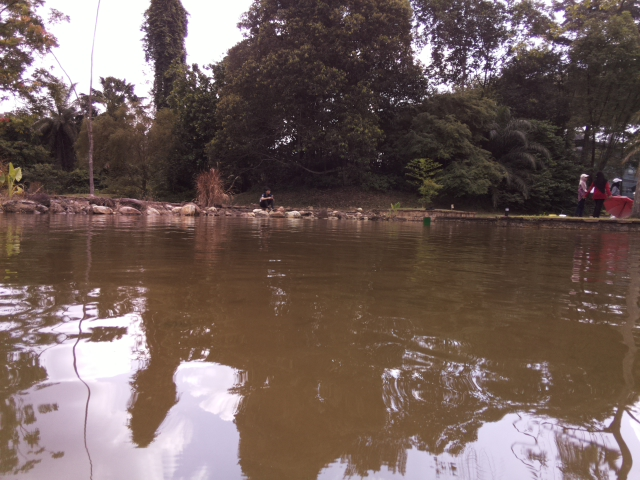obstacle: (423, 216, 432, 225)
